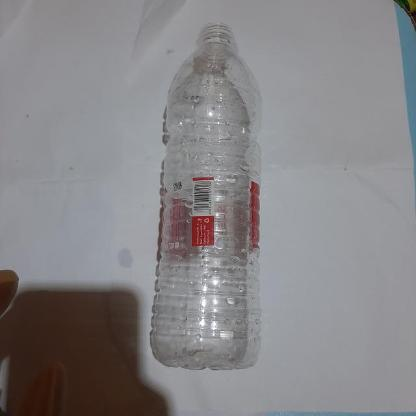Plastic Bottle: (149, 21, 263, 368)
